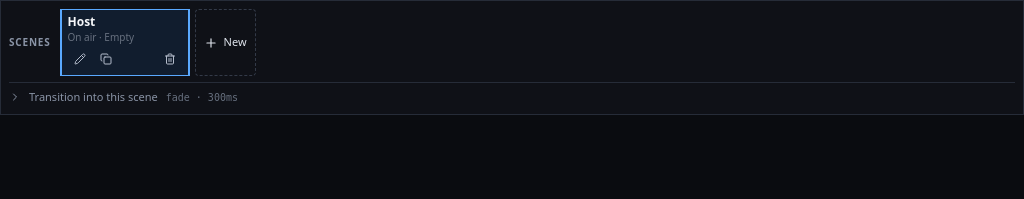
Test: SceneStrip › keeps the transition controls collapsed until asked for
Click the button "Transition into this scene fade · 300ms".
click(93, 96)  # box [9,89,1015,106]
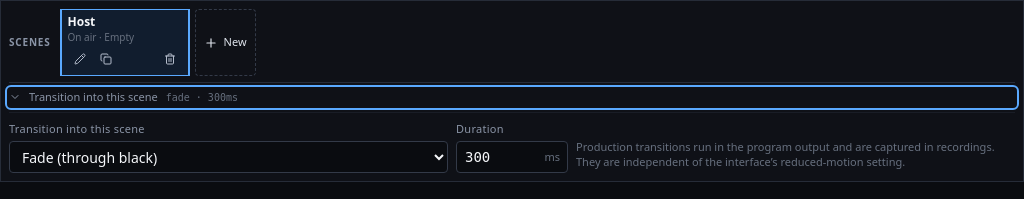
Result: the dropdown labelled "Transition into this scene" is shown at [9,141,448,173]
Result: the button "Transition into this scene fade · 300ms" is expanded at [9,89,1015,106]
